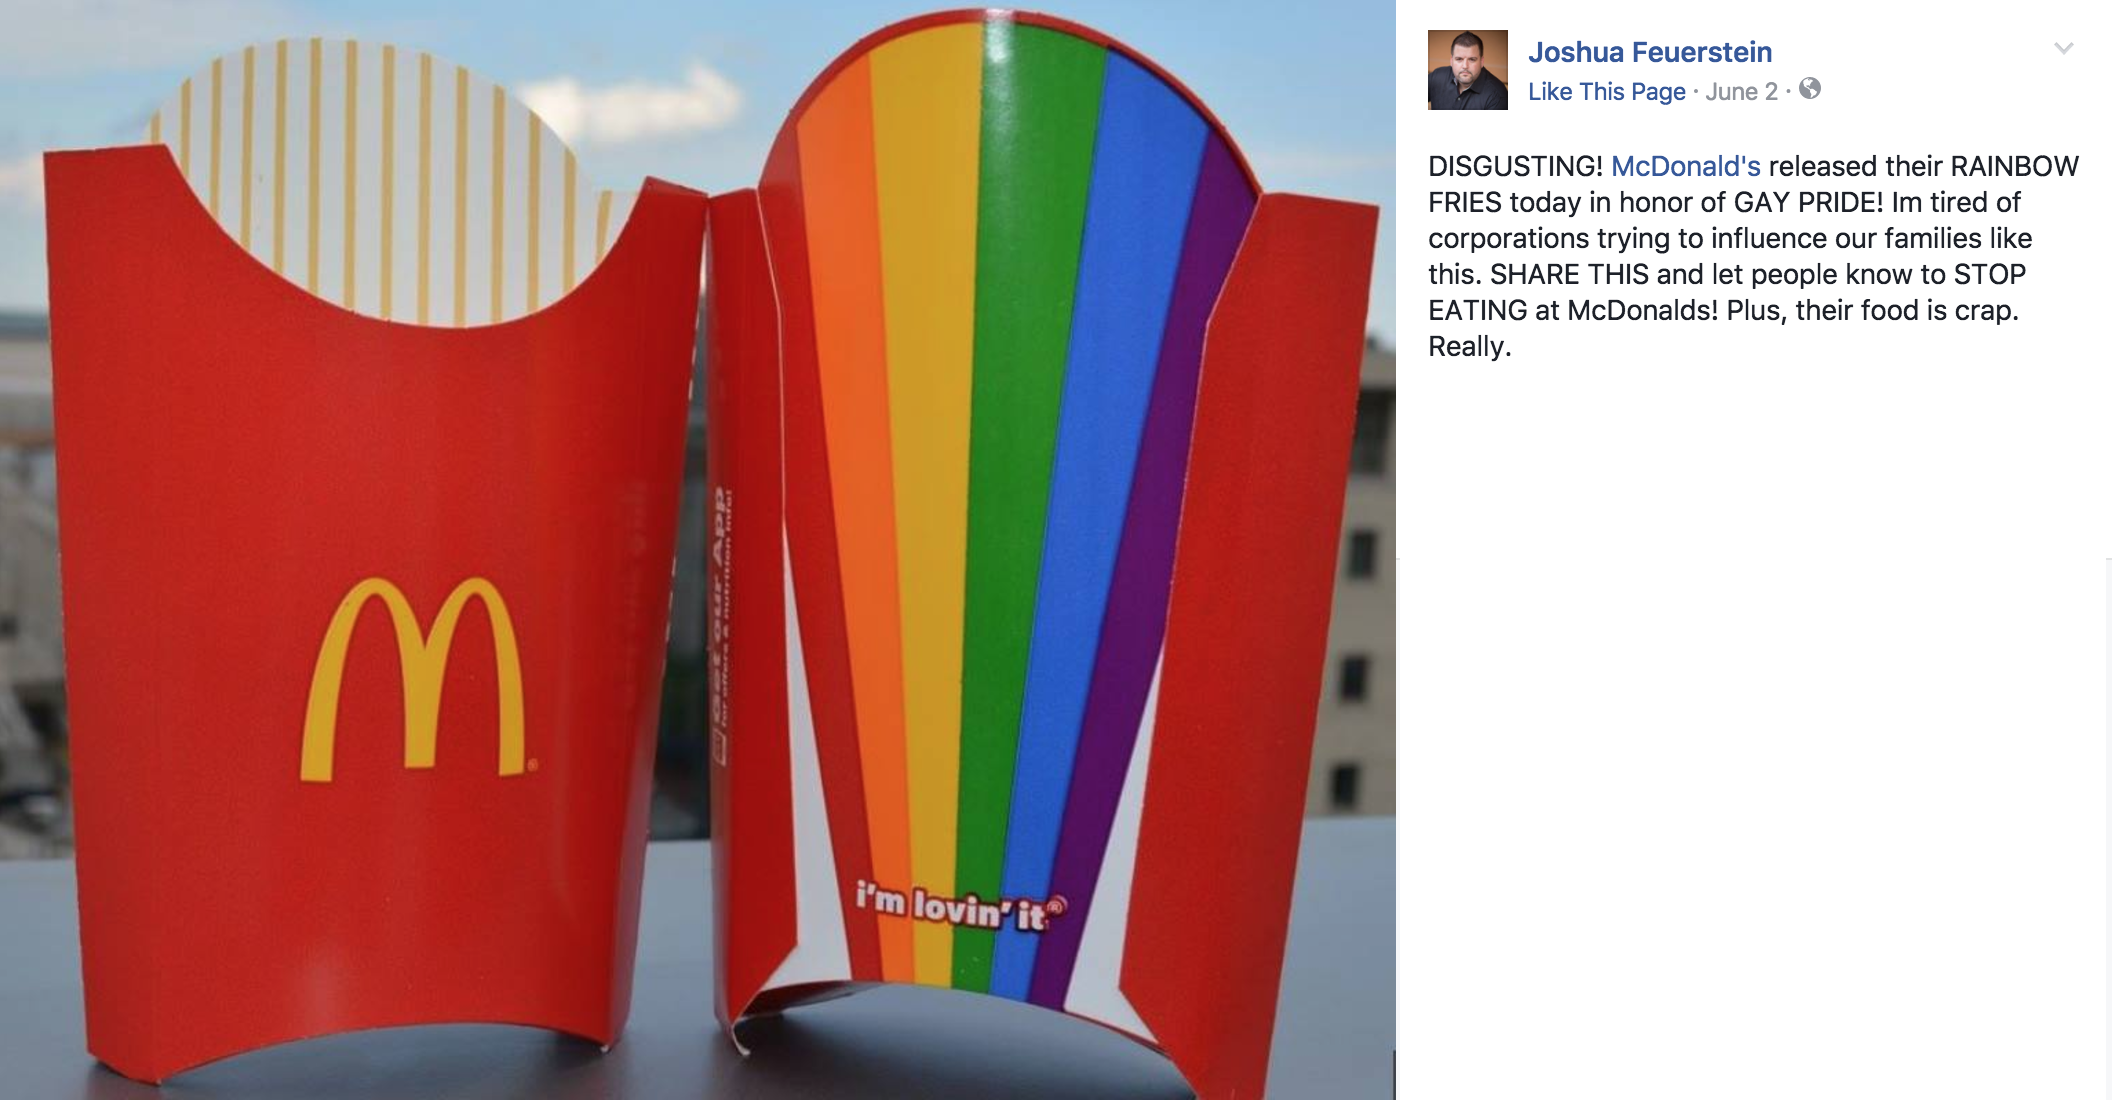mcdonalds: (298, 572, 536, 780)
